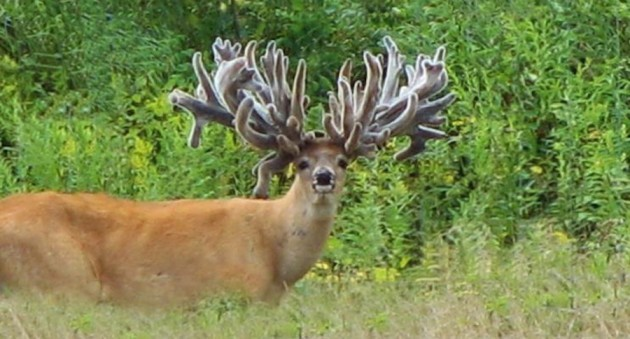Deer: (1, 38, 452, 299)
